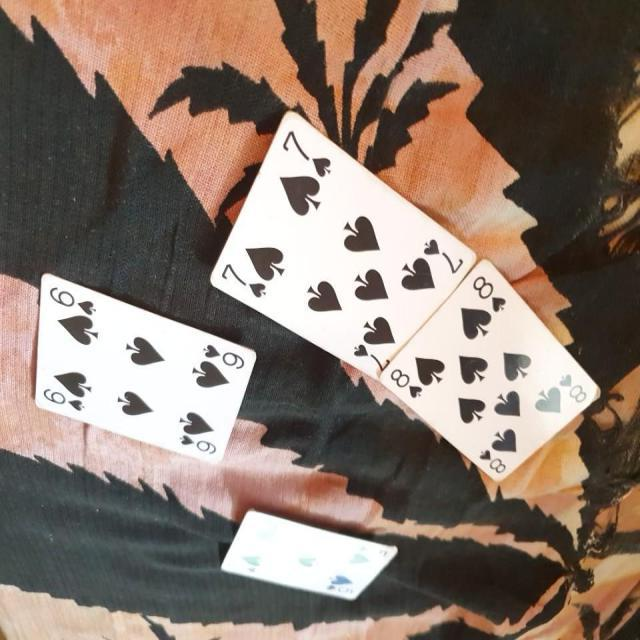5 of spades: (208, 488, 408, 611)
6 of spades: (24, 266, 258, 478)
7 of spades: (205, 92, 484, 378)
8 of spades: (382, 256, 606, 494)
